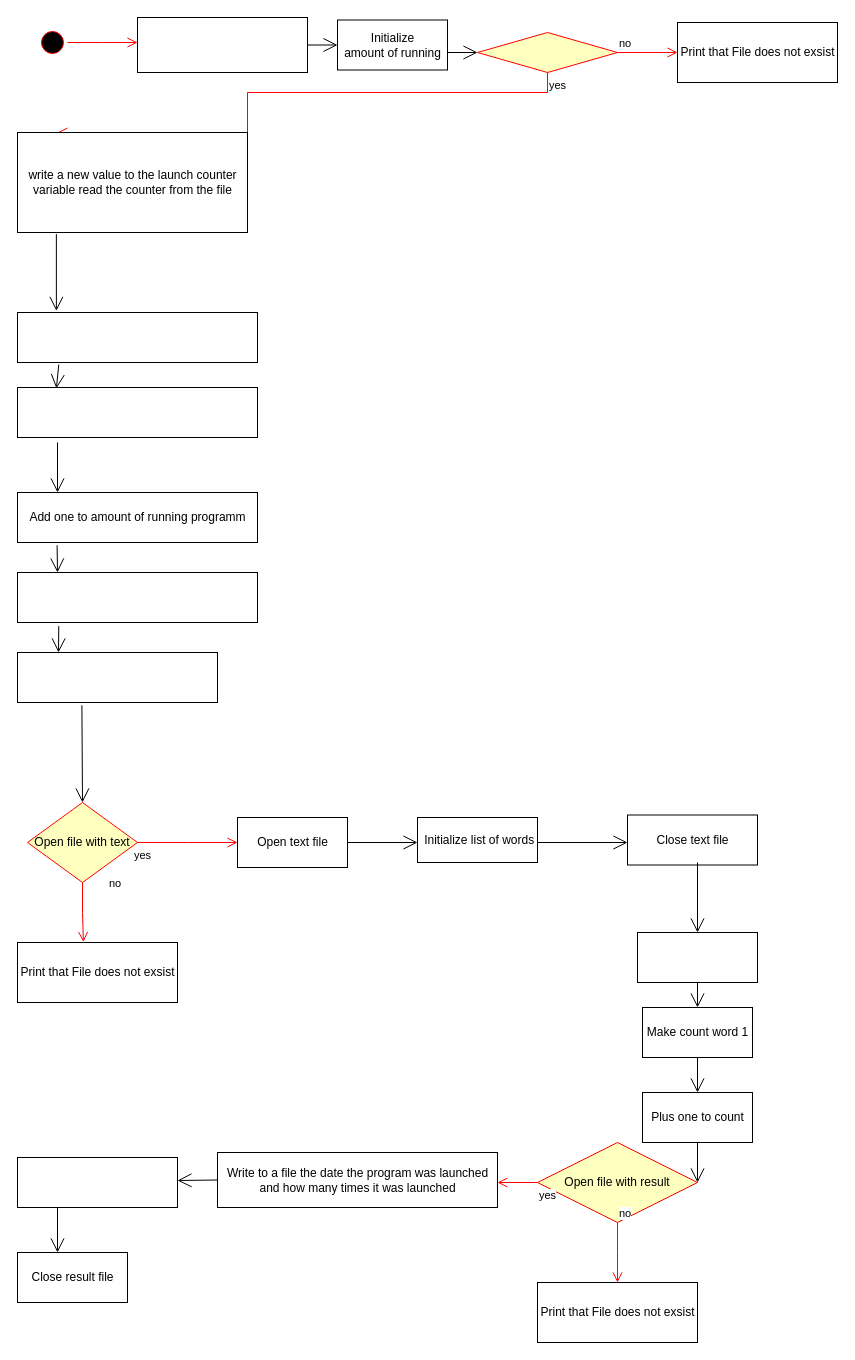
The diagram is 855 pixels wide and 1360 high, and some of its shapes have lost their labels. Here are the shapes that lost their labels. From the top down, the centre of each, then its label:
(x=222, y=44): Initialize variable of data running programm and write it
(x=547, y=52): Try to open file with count of running programm
(x=137, y=337): Move pointer to start of file
(x=137, y=412): Clean file
(x=137, y=597): Write amount of running programm
(x=117, y=677): Close count file
(x=697, y=957): Initialize dict fro word and his amount
(x=97, y=1182): Write a word pair and its number to the final file
